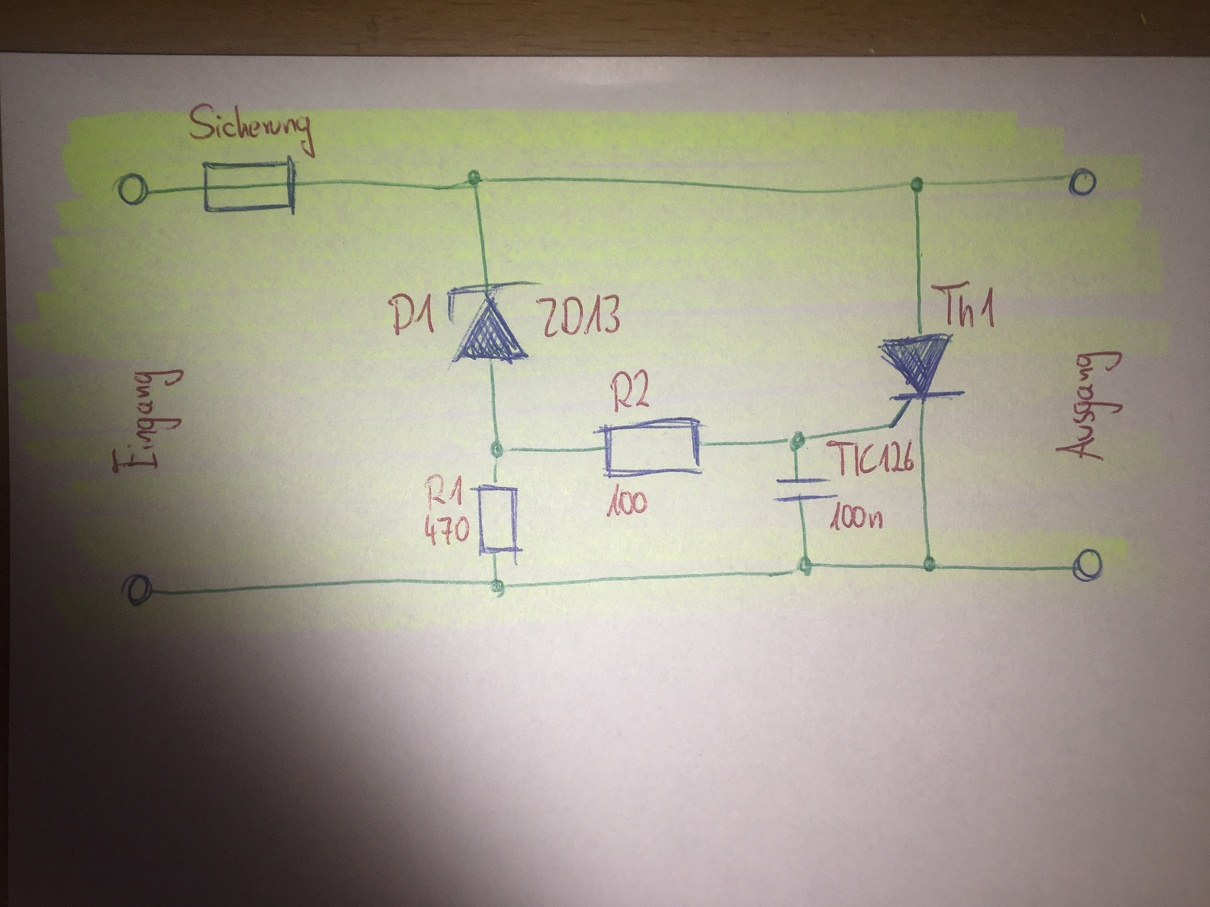capacitor.unpolarized: (771, 474, 841, 506)
diode: (444, 277, 542, 371)
fuse: (198, 153, 303, 219)
junction: (790, 548, 819, 580), (783, 428, 812, 457), (487, 435, 515, 464), (461, 167, 490, 193), (485, 572, 510, 600), (907, 172, 930, 198), (919, 552, 941, 577)
resistor: (591, 413, 707, 481), (468, 478, 524, 567)
terminal: (120, 570, 160, 609), (114, 170, 154, 208), (1069, 545, 1106, 585), (1065, 164, 1099, 198)
text: (1051, 347, 1127, 466), (109, 364, 186, 475), (185, 99, 320, 161), (533, 291, 628, 339), (823, 437, 917, 480), (928, 277, 1002, 331), (385, 290, 440, 337), (607, 365, 654, 415), (826, 499, 888, 536), (421, 512, 474, 548), (422, 470, 467, 511), (602, 482, 650, 520)
thyristor: (874, 330, 969, 431)
